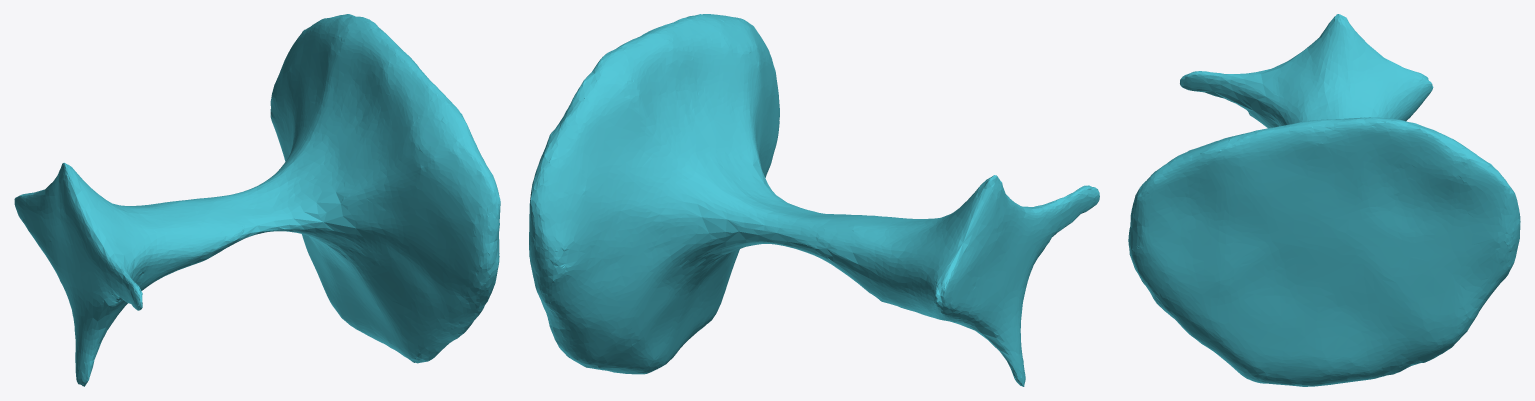
3 renders of one model, left to right at view 1: azimuth 30°, elevation 25°; view 2: azimuth 150°, elevation 25°; view 3: azimuth 270°, elevation 25°, orthographic. The views are drawn at different scales.
Visible parts, largest first — view 1: Renderer Node; view 2: Renderer Node; view 3: Renderer Node.
Part boxes in pixels (left/top/right/bottom): Renderer Node: left=14, top=14, right=500, bottom=386; Renderer Node: left=529, top=14, right=1099, bottom=386; Renderer Node: left=1128, top=14, right=1520, bottom=386.
Size of the model in its own units: 0.5677 by 0.4558 by 0.5961.
Materials: 1 (1 with a texture image).
